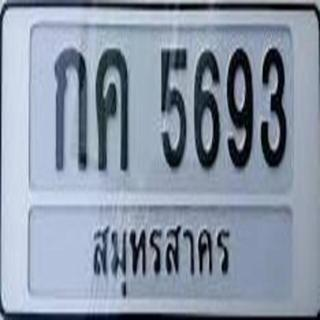A01: (46, 44, 92, 174)
A04: (91, 43, 137, 173)
N03: (255, 41, 291, 171)
N05: (154, 42, 190, 176)
N06: (191, 42, 222, 173)
N09: (224, 40, 258, 173)
P58: (85, 218, 236, 299)
